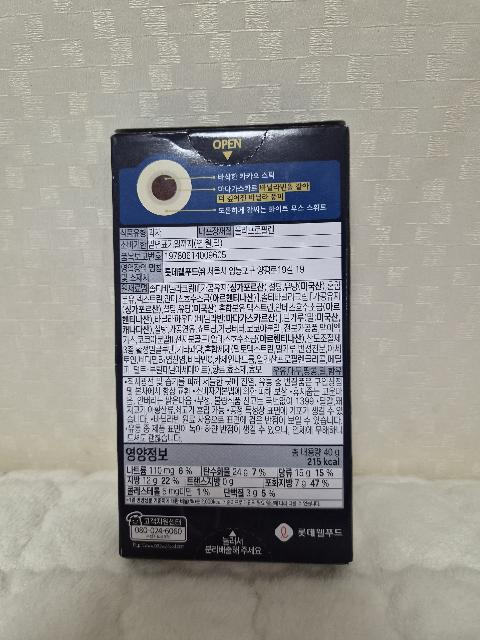pepero: (110, 120, 354, 565)
